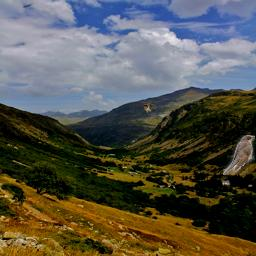Cuckoo: (223, 135, 255, 175)
Swallow: (142, 103, 156, 113)
